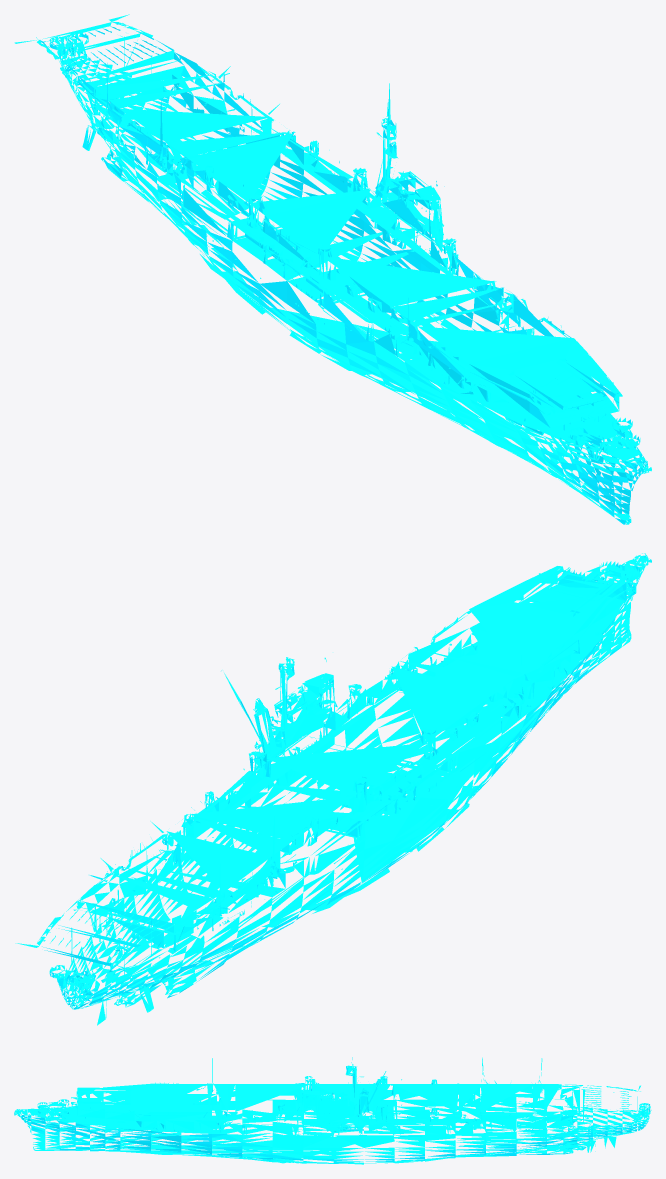
File: Werner_Voss.glb
3 renders of one model, top to bottom at view 1: azimuth 30°, elevation 25°; view 2: azimuth 150°, elevation 25°; view 3: azimuth 270°, elevation 25°, orthographic. The views are drawn at different scales.
Size of the model in its own units: 2.96 by 3.52 by 18.59.
